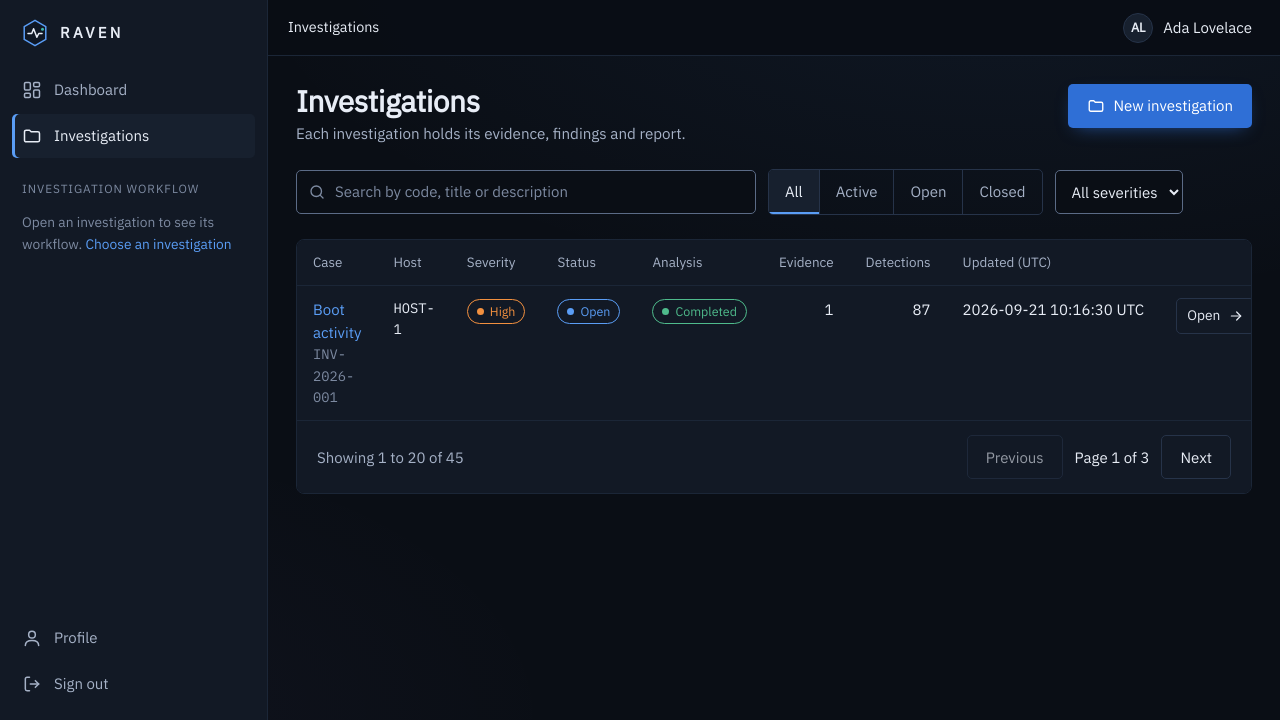
Test: Investigations list › pages through a long list
Expected: the navigation bar named "Pagination" shows "Showing 1 to 20 of 45", [297,420,1251,493]
Expected: the navigation bar named "Pagination" shows "Page 1 of 3", [297,420,1251,493]
What coordinates should you click on to do the following:
click the button "Next"
I would click on:
 (1196, 457)
Its box is [1162,435,1231,479].
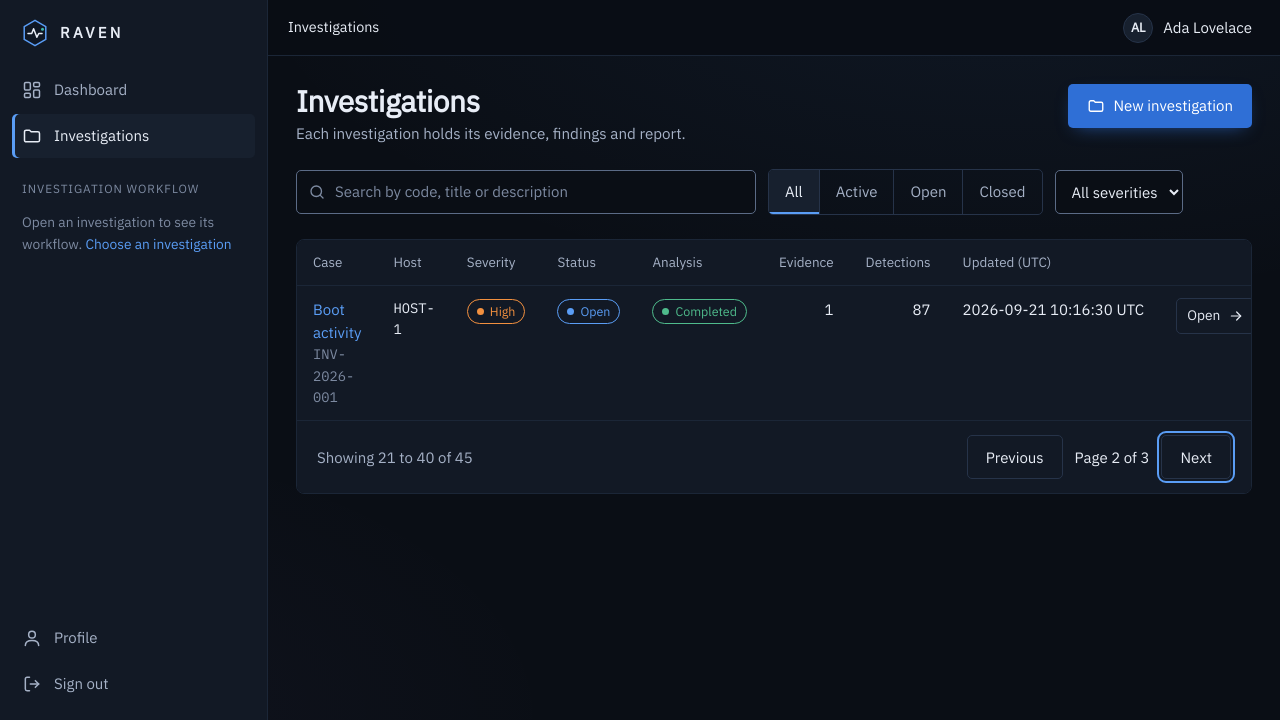
Expected: the navigation bar named "Pagination" shows "Page 2 of 3", [297,420,1251,493]
